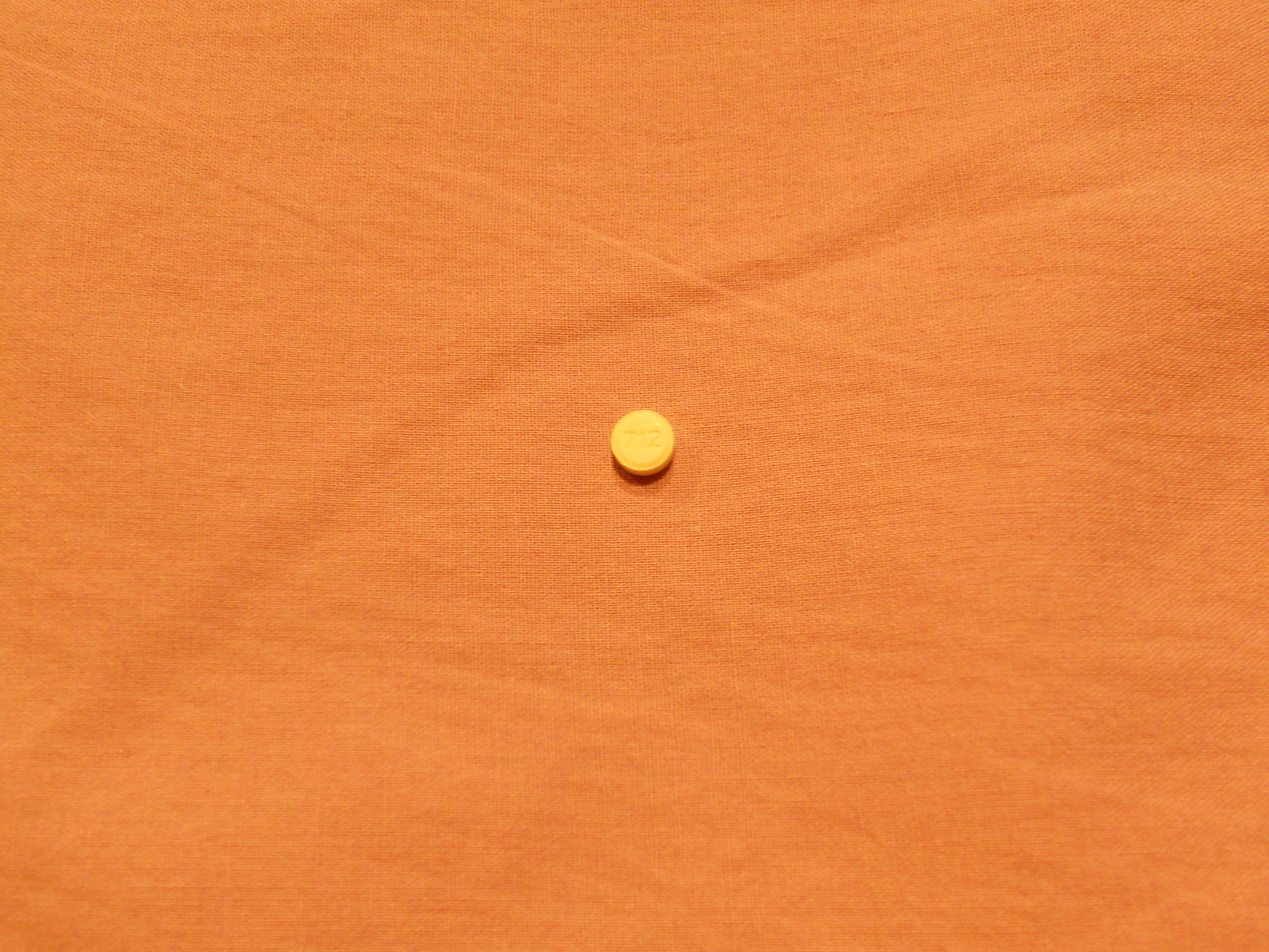Pill: (588, 393, 694, 497)
